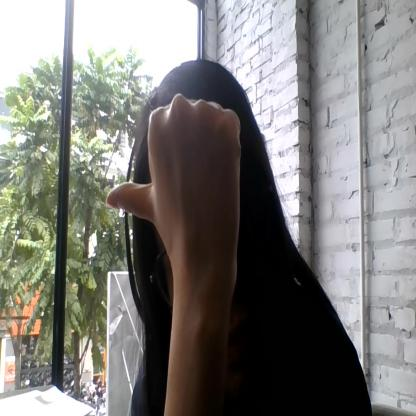right: (107, 92, 243, 263)
